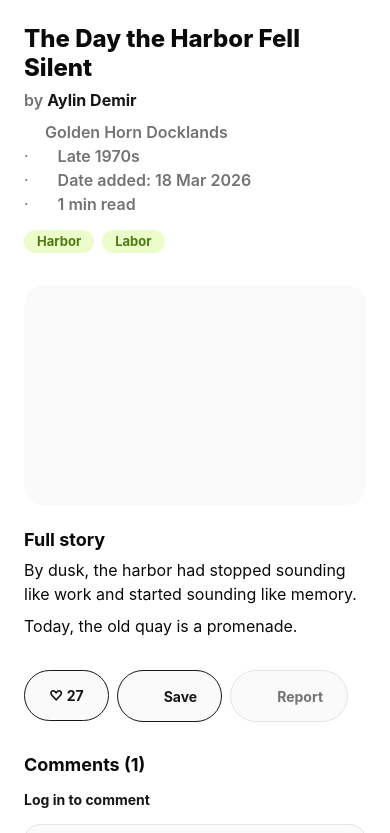
Test: StoryScreen › prompts unauthenticated users when they try to comment
Expected: the text "The Day the Harbor Fell Silent" is shown, [24,24,305,82]
Click the button "Log in to comment": (87, 800) [24,791,366,808]
(page scrolled)
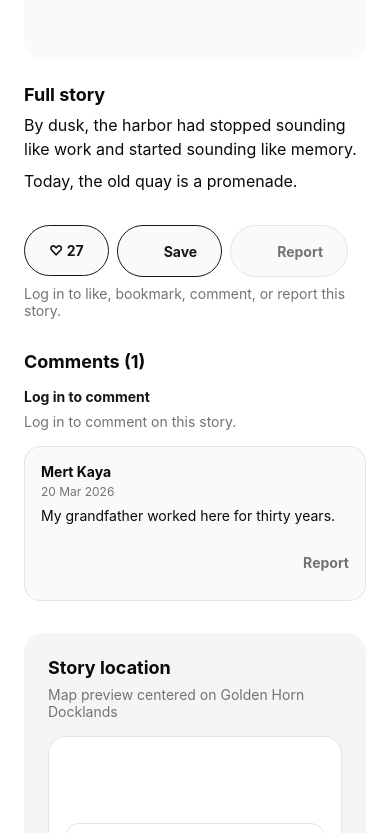
Expected: the text "Log in to comment on this story." is shown, [24,413,236,430]
